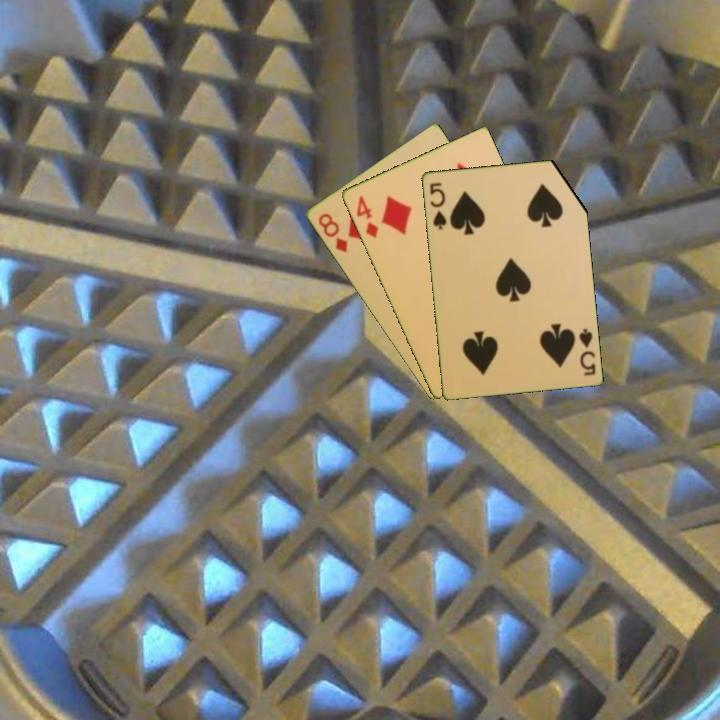4d: (352, 192, 381, 241)
5s: (426, 179, 449, 232), (575, 325, 598, 378)
8d: (314, 209, 350, 256)
